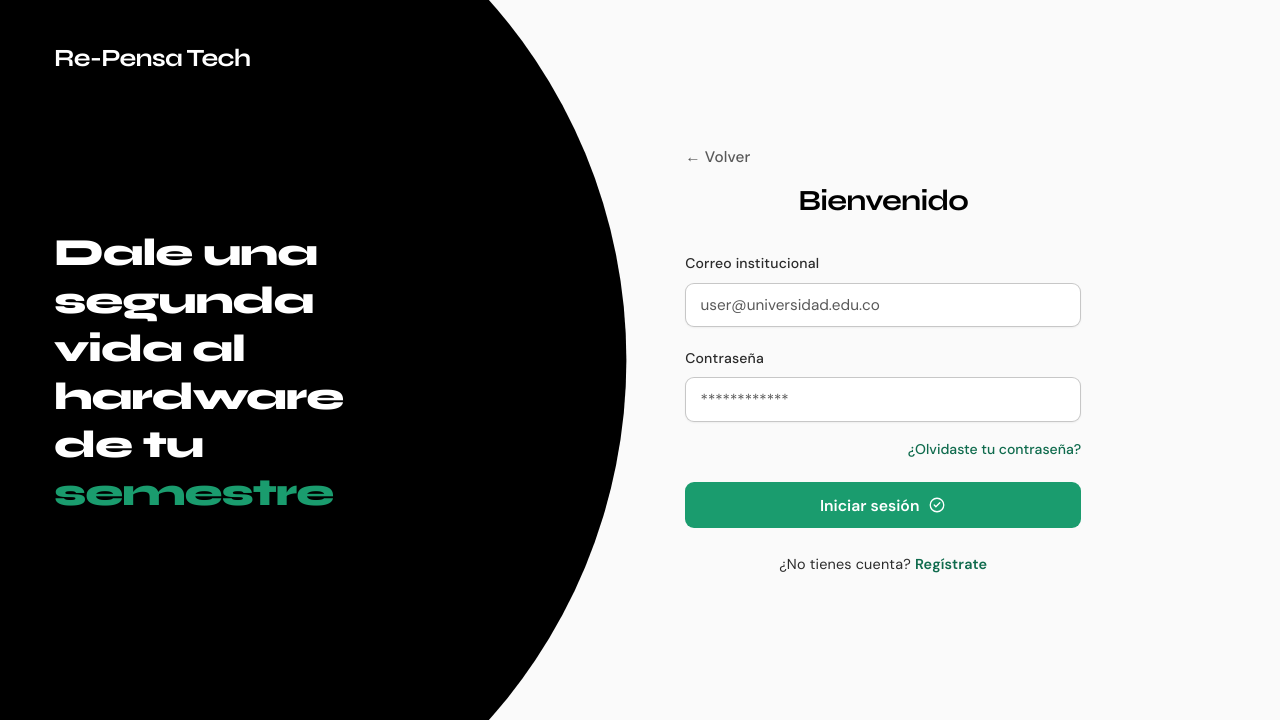
Auth — autenticación › muestra error con credenciales inválidas
The width and height of the screenshot is (1280, 720).
Step 1. Type "invalido@uniempresarial.edu.co" into the field with id "email" → (883, 306), box [685,283,1081,328]
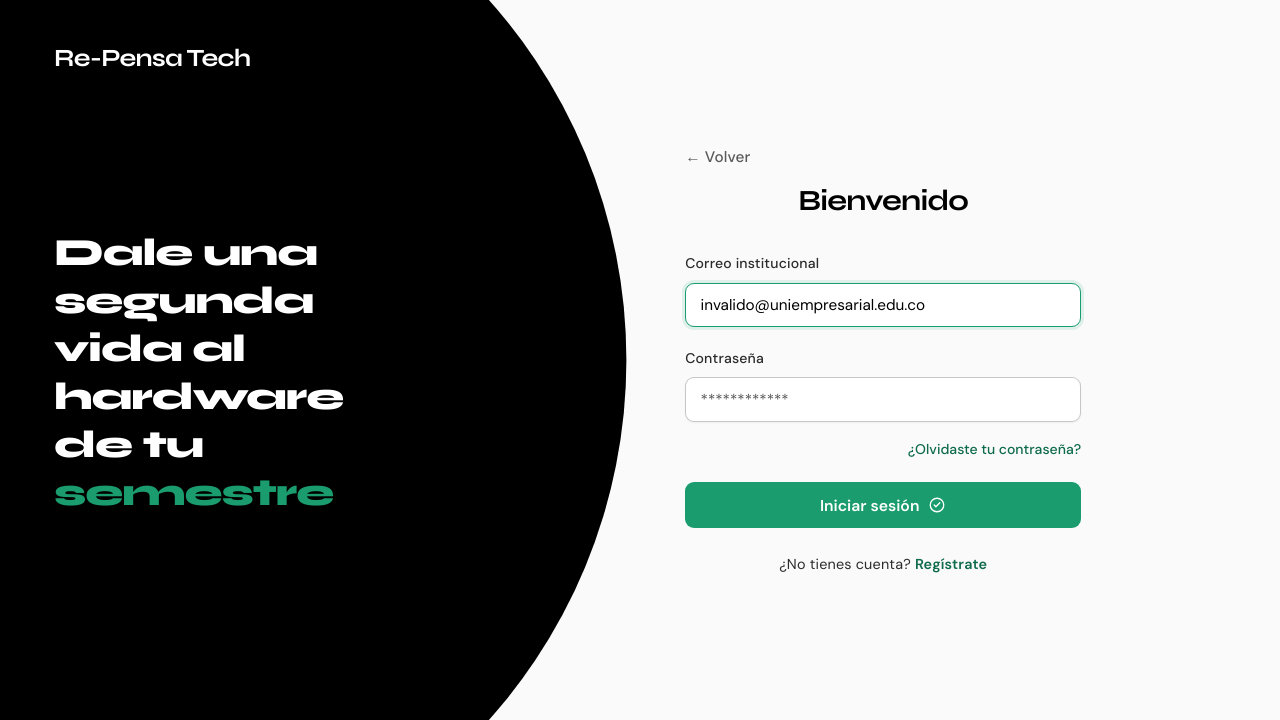
Step 2. Type "contraseña-incorrecta" into the password field labelled "Contraseña" → (883, 400), box [685,377,1081,422]
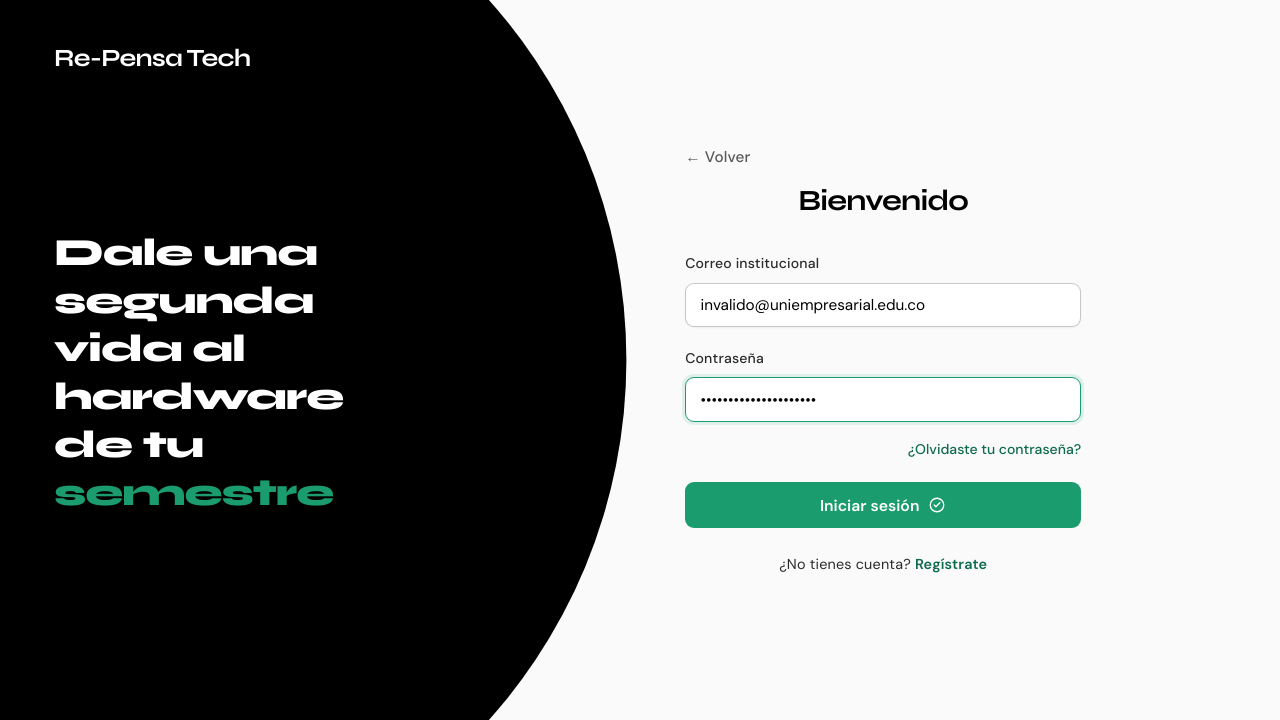
Step 3. Click the button "Iniciar sesión" → (883, 505), box [685,482,1081,528]
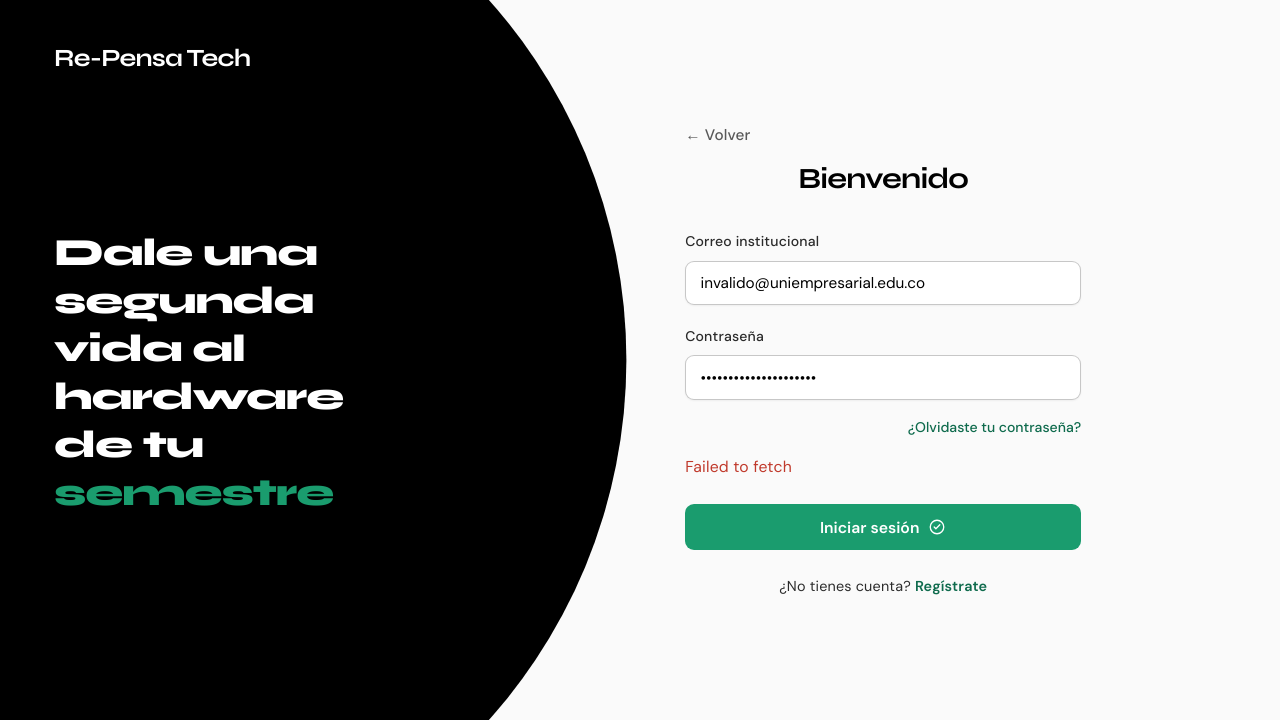
Expected: the message "Failed to fetch" is shown, [685,456,792,477]
